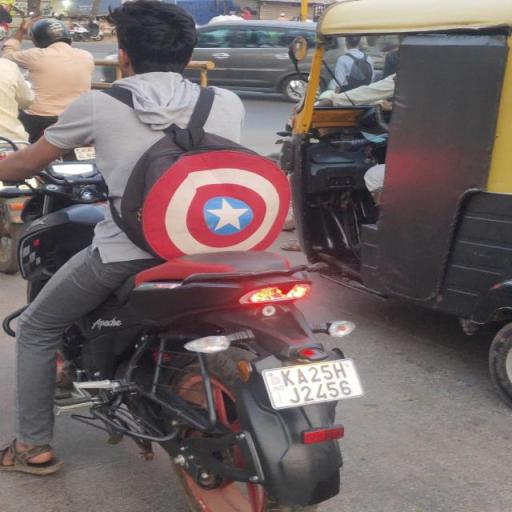bike: (2, 1, 381, 512)
numberplate: (258, 352, 362, 412)
withouthelmet: (116, 2, 193, 75)
